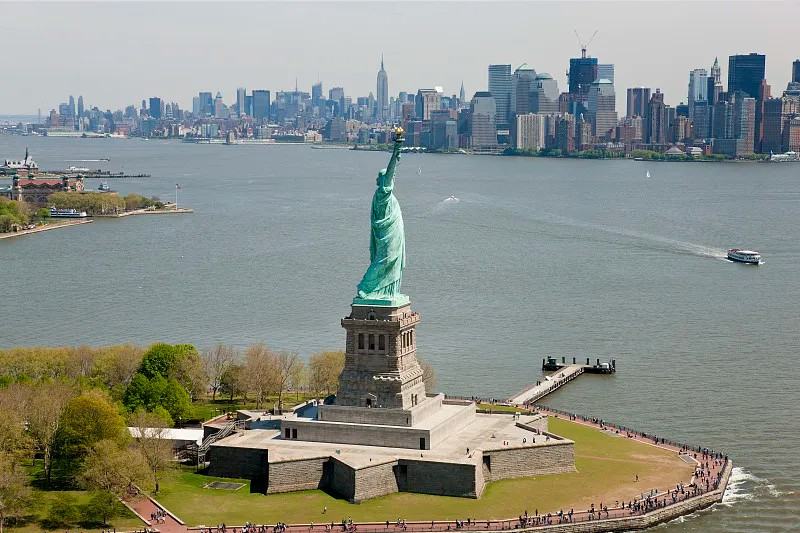SL: (334, 125, 426, 409)
